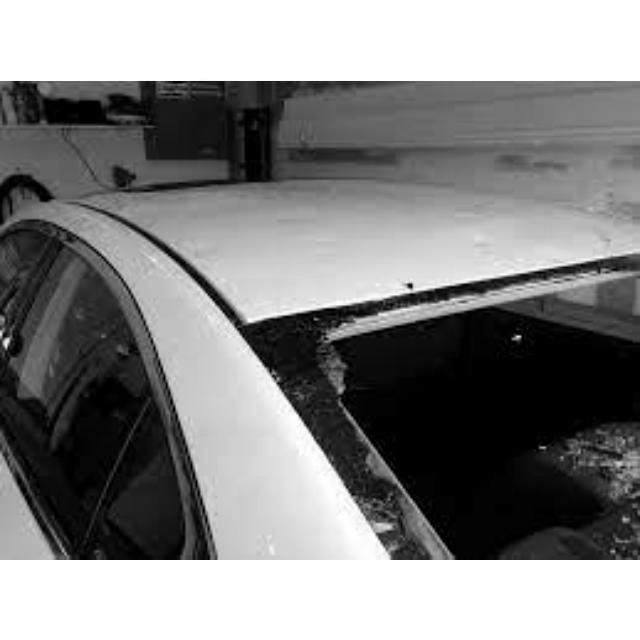Rear-windscreen-Damage: (223, 256, 638, 557)
